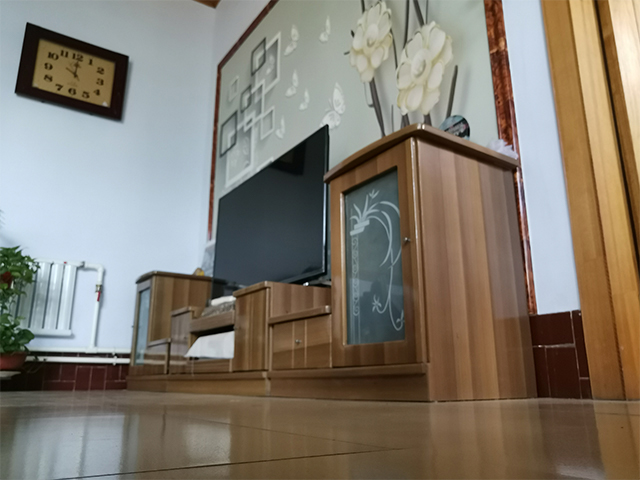cabinet: (124, 121, 541, 402)
